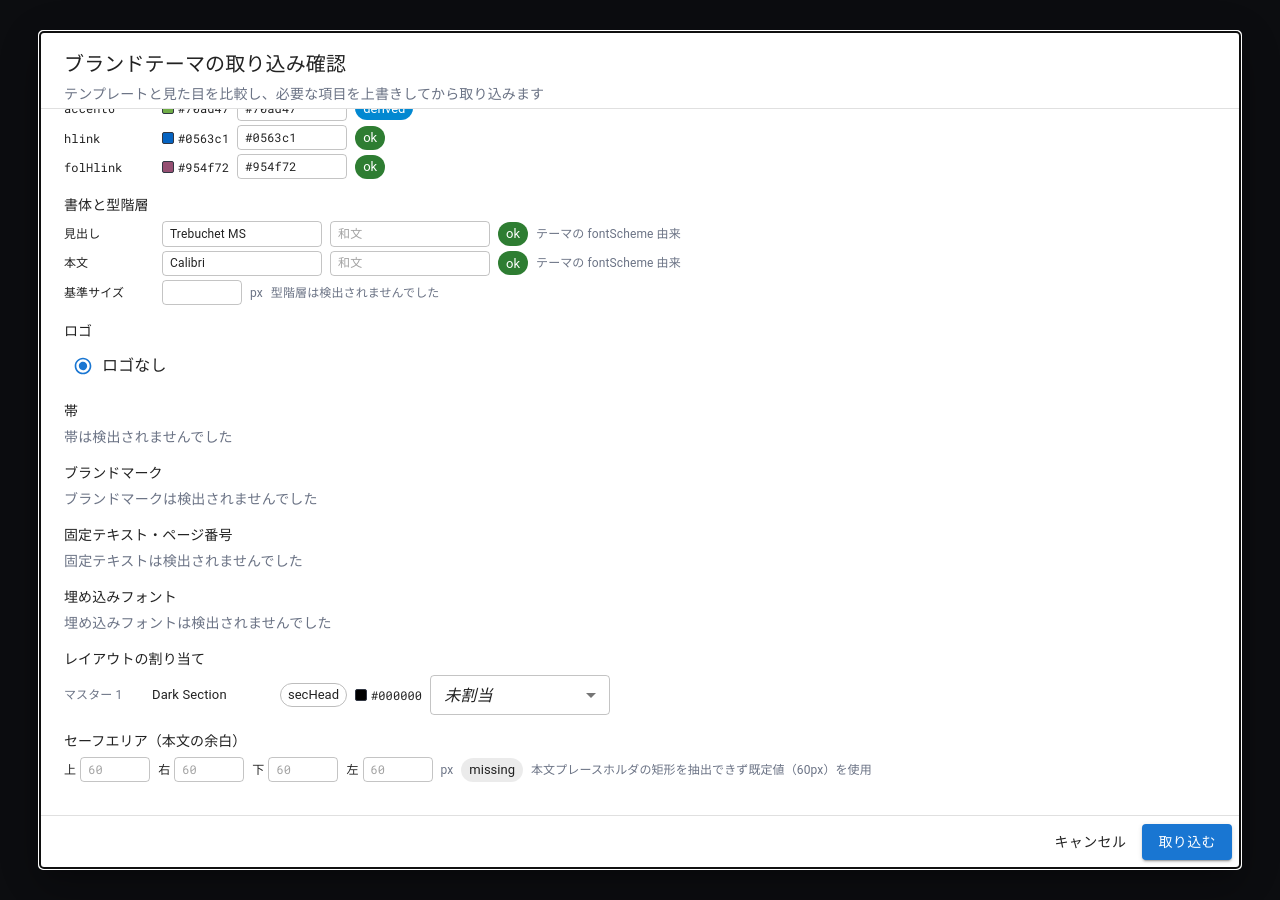
Test: BrandConfirmDialog（#168 並置比較・取り込み確認） › 反転面・締め用の2枠が選択肢に表示される（#262）
(page scrolled)
Press the mouse on the dropdown named "Dark Section" at {"x": 468, "y": 695}, box top-left (444, 686), bottom-right (493, 704)
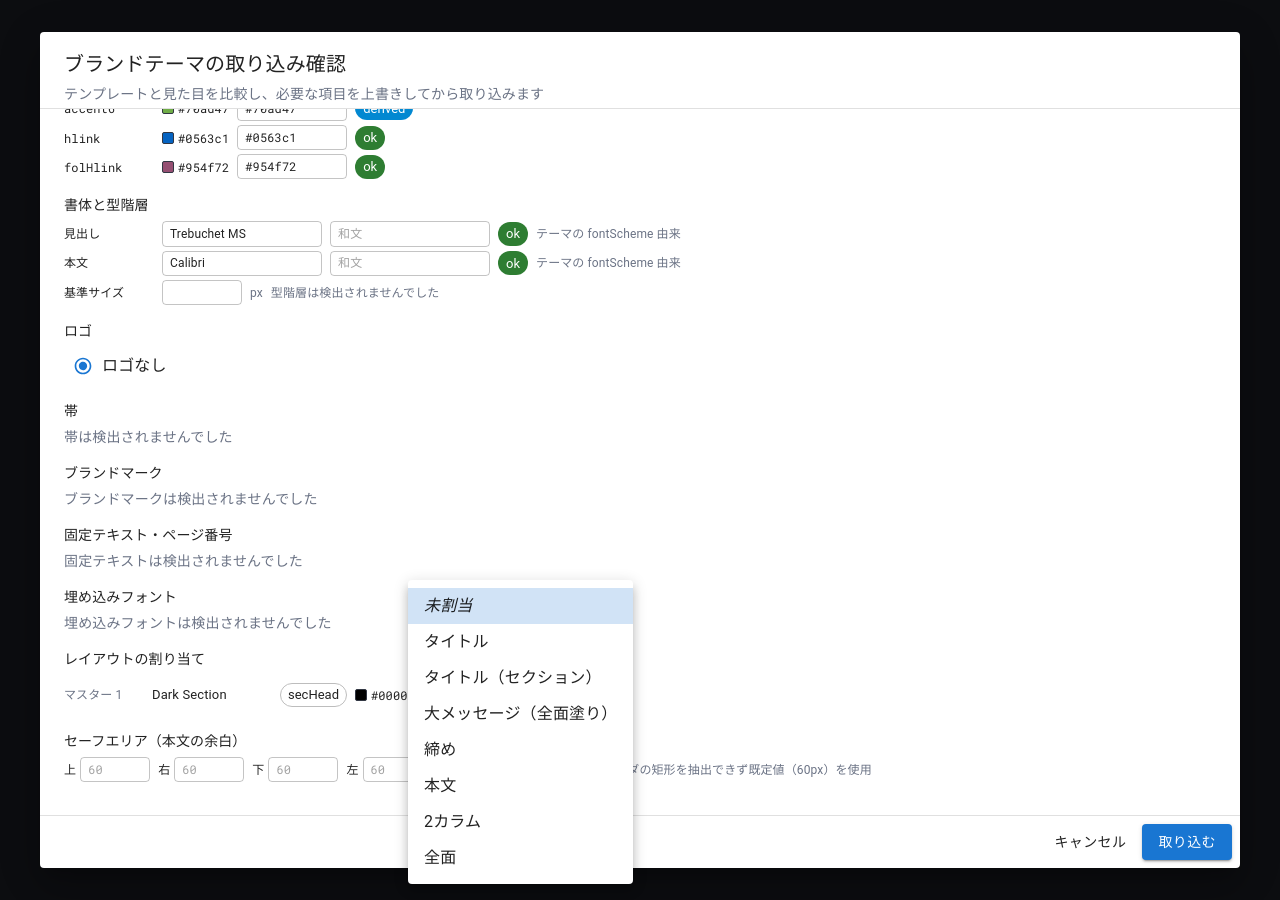
Now the option "大メッセージ（全面塗り）" is shown, box top-left (424, 704), bottom-right (618, 723)
Now the option "締め" is shown, box top-left (424, 740), bottom-right (456, 759)
